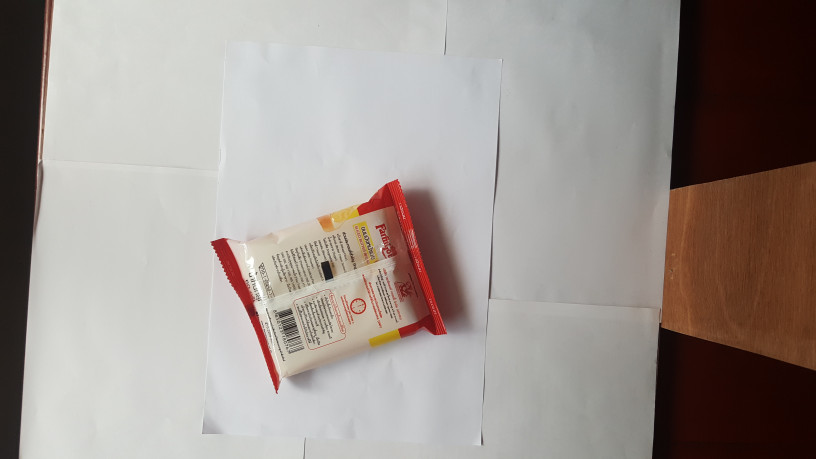farmhouse-bread-butter: (198, 167, 452, 395)
